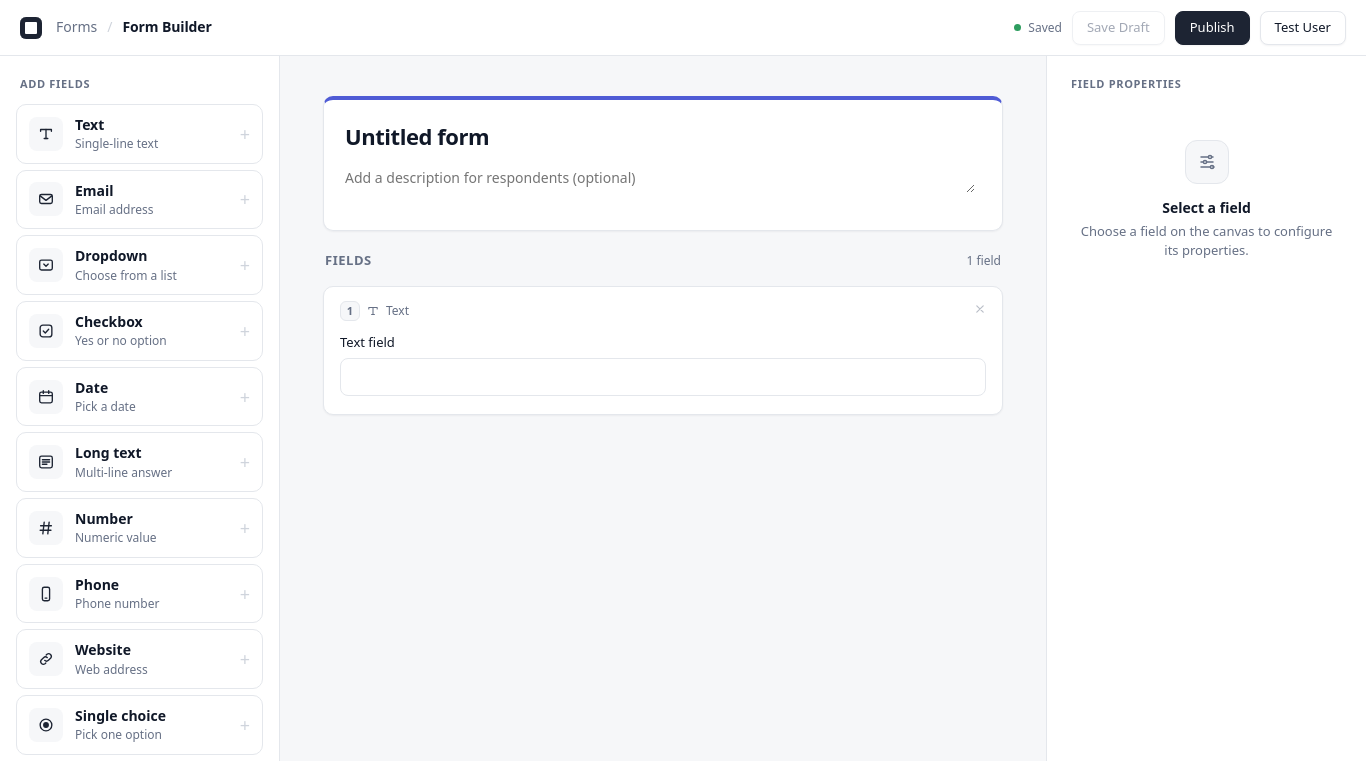
Test: Publish with a persisted form › does not offer a second publish of an unchanged draft
Click the button "Publish": click(1212, 28) top-left (1175, 10), bottom-right (1250, 44)
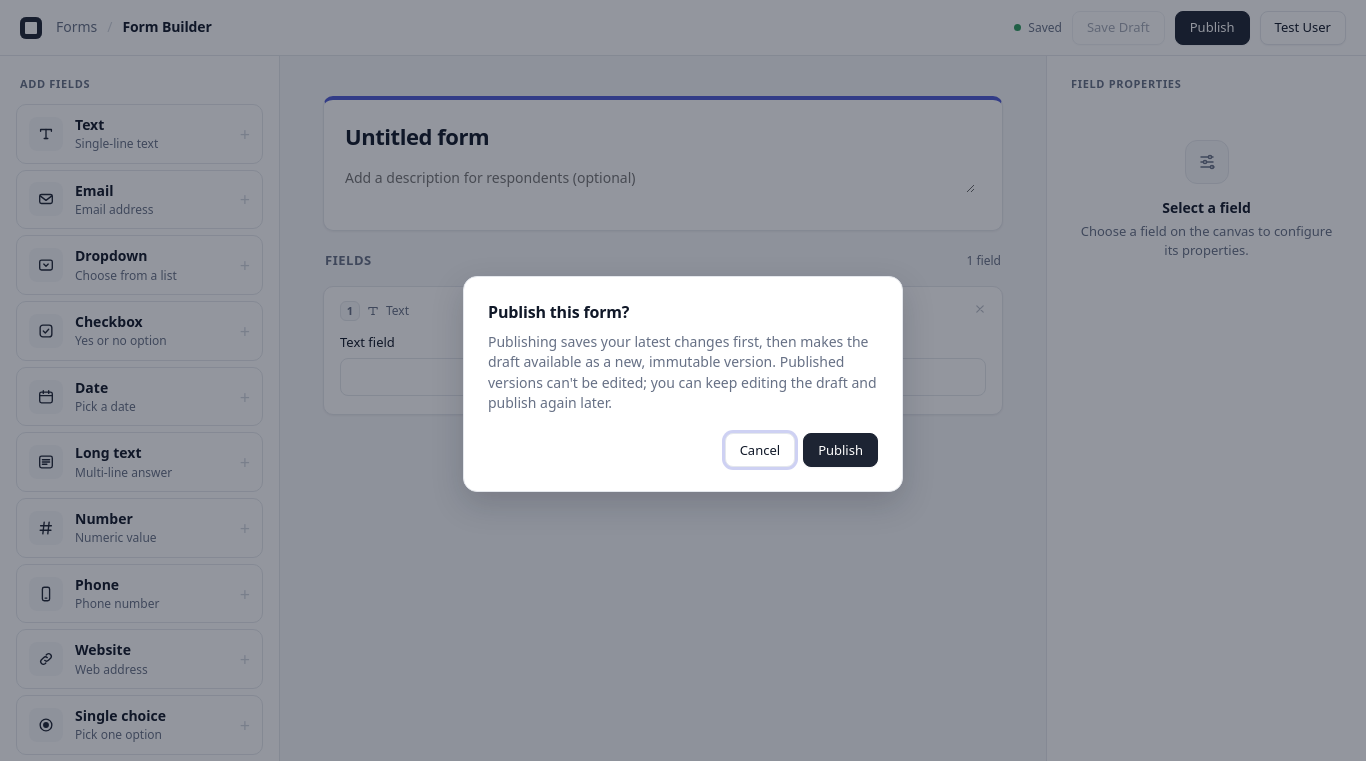
Click the button with class "fb-button-primary" below "Publish this form?": click(841, 450) top-left (803, 433), bottom-right (878, 467)
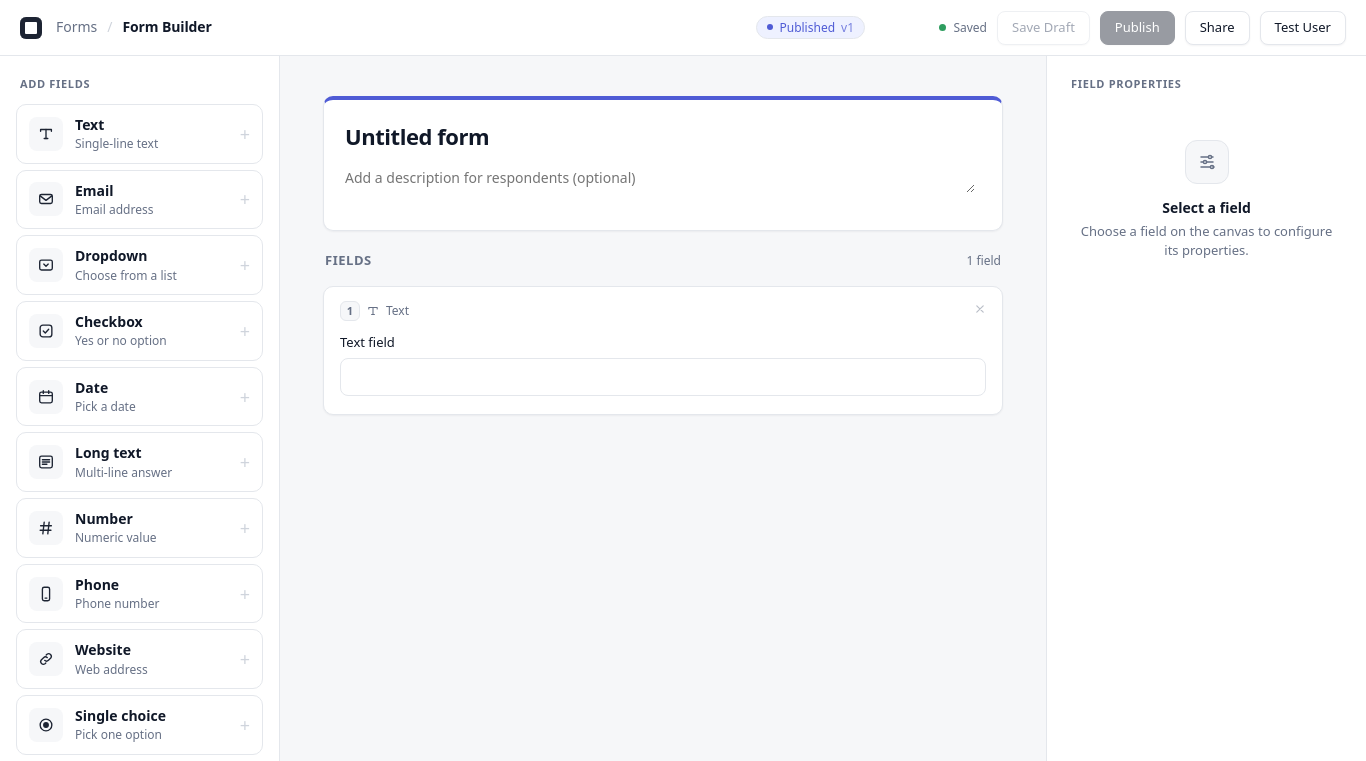
Check: the element with class "fb-form-status" reads "Published v1", box top-left (756, 16), bottom-right (865, 39)
Check: the button "Publish" is disabled, box top-left (1100, 10), bottom-right (1175, 44)
